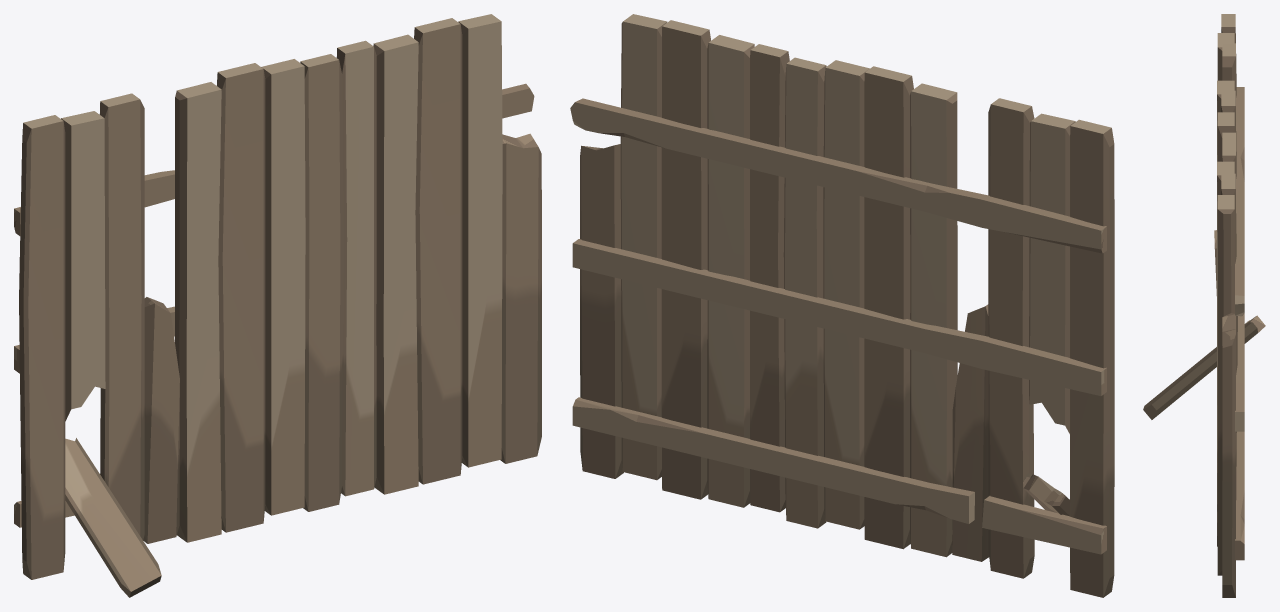
The model's file is SM_Prop_Fence_Wood_Straight_02.obj.
3 views of the same model, side by side, from view 1: azimuth 30°, elevation 25°; view 2: azimuth 150°, elevation 25°; view 3: azimuth 270°, elevation 25° (orthographic). The views are drawn at different scales.
Parts seen in each view (by area): view 1: SM_Prop_Fence_Wood_Straight_02_0; view 2: SM_Prop_Fence_Wood_Straight_02_0; view 3: SM_Prop_Fence_Wood_Straight_02_0.
Part boxes in pixels (x1,y1,x2,y2): SM_Prop_Fence_Wood_Straight_02_0: (14,14,541,597); SM_Prop_Fence_Wood_Straight_02_0: (570,14,1114,597); SM_Prop_Fence_Wood_Straight_02_0: (1143,14,1265,597).
Bounding box in the file's own units: 2.52 × 2.12 × 0.6181.
Materials: 1 (1 with a texture image).
